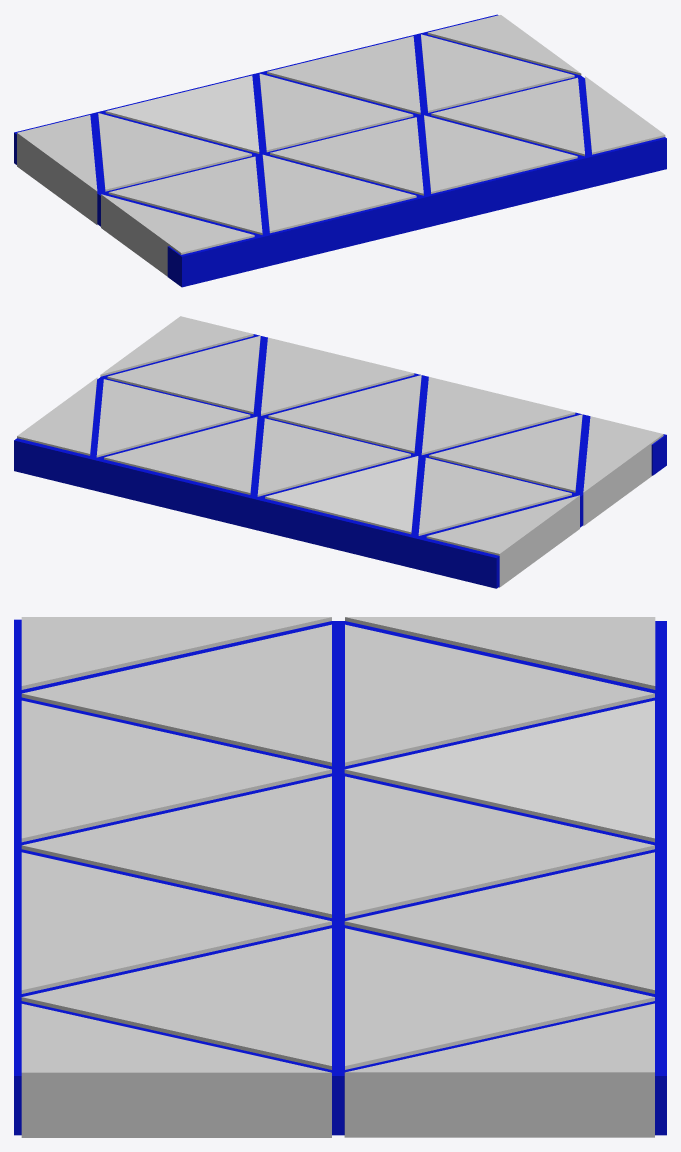
The model's file is FuturisticFlooringV5.fbx.
The picture shows the model from 3 angles, top to bottom: view 1: azimuth 30°, elevation 25°; view 2: azimuth 150°, elevation 25°; view 3: azimuth 270°, elevation 25°; orthographic projection. The views are drawn at different scales.
Visible parts, largest first — view 1: Cube, Cylinder.015, Cylinder.018, Cylinder.019, Cylinder.025, Cylinder.027, Cylinder.029, Cylinder.007, Cylinder.026, Cylinder.028, Cylinder.017, Cylinder.006 (+3 smaller); view 2: Cube, Cylinder.018, Cylinder.026, Cylinder.025, Cylinder.019, Cylinder.015, Cylinder.027, Cylinder.029, Cylinder.017, Cylinder.007, Cylinder.028, Cylinder.006 (+3 smaller); view 3: Cylinder.004, Cylinder.003, Cube, Cylinder.019, Cylinder.018, Cylinder.015, Cylinder.007, Cylinder.017, Cylinder.029, Cylinder.028, Cylinder.026, Cylinder.025 (+3 smaller).
Part boxes in pixels (box(x1,y1,x2,y2)): Cube: box(14, 14, 666, 287); Cylinder.015: box(108, 156, 262, 234); Cylinder.018: box(262, 154, 416, 233); Cylinder.019: box(424, 115, 577, 193); Cylinder.025: box(259, 74, 413, 152); Cylinder.027: box(98, 113, 251, 191); Cylinder.029: box(105, 75, 259, 153); Cylinder.007: box(270, 117, 423, 195); Cylinder.026: box(421, 34, 574, 112); Cylinder.028: box(267, 36, 420, 114); Cylinder.017: box(431, 77, 584, 156); Cylinder.006: box(17, 115, 97, 224); Cube: box(14, 334, 666, 588); Cylinder.018: box(421, 377, 575, 454); Cylinder.026: box(96, 379, 250, 457); Cylinder.025: box(257, 418, 410, 496); Cylinder.019: box(261, 337, 414, 415); Cylinder.015: box(429, 414, 582, 492); Cylinder.027: box(418, 457, 571, 535); Cylinder.029: box(265, 456, 418, 534); Cylinder.017: box(107, 335, 260, 414); Cylinder.007: box(268, 375, 421, 453); Cylinder.028: box(104, 416, 257, 494); Cylinder.006: box(426, 495, 579, 587); Cylinder.004: box(344, 1003, 654, 1137); Cylinder.003: box(21, 1004, 331, 1137); Cube: box(14, 619, 666, 1135); Cylinder.019: box(21, 852, 331, 993); Cylinder.018: box(21, 700, 331, 842); Cylinder.015: box(21, 624, 331, 766); Cylinder.007: box(21, 776, 331, 917); Cylinder.017: box(21, 928, 331, 1069); Cylinder.029: box(344, 700, 654, 842); Cylinder.028: box(344, 852, 654, 993); Cylinder.026: box(345, 928, 654, 1069); Cylinder.025: box(345, 776, 654, 917).
Size of the model in its own units: 331 by 22.02 by 200.
